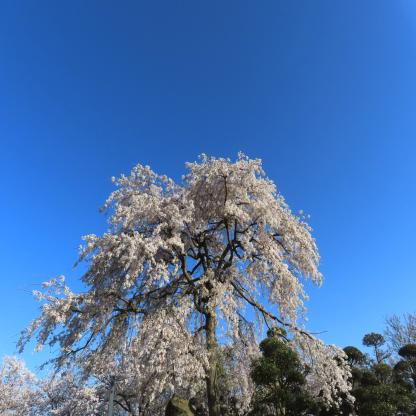ShidareZakura: (0, 149, 355, 416)
